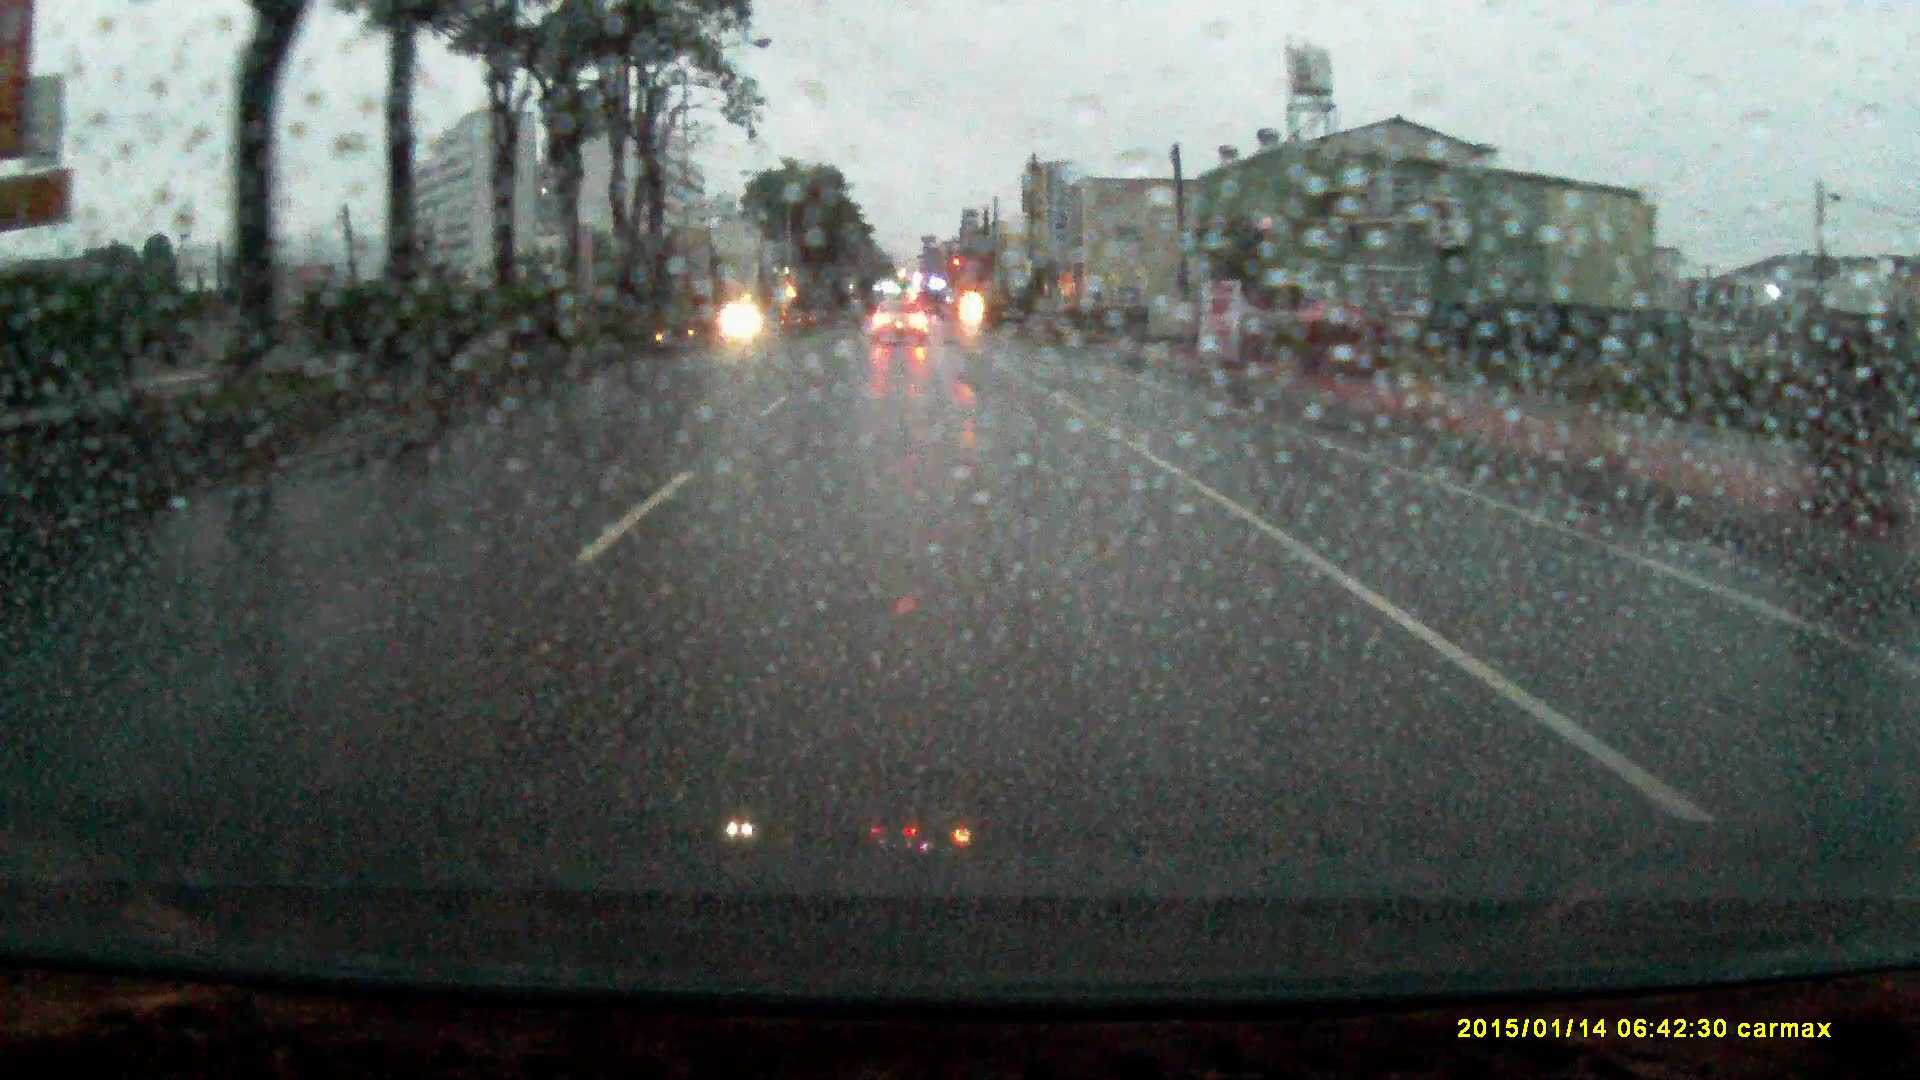vehicle: (873, 299, 930, 343)
